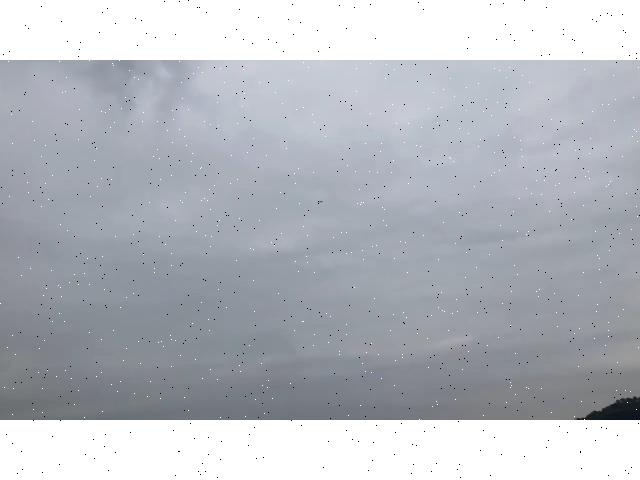Anti-Drone: (314, 197, 336, 206)
